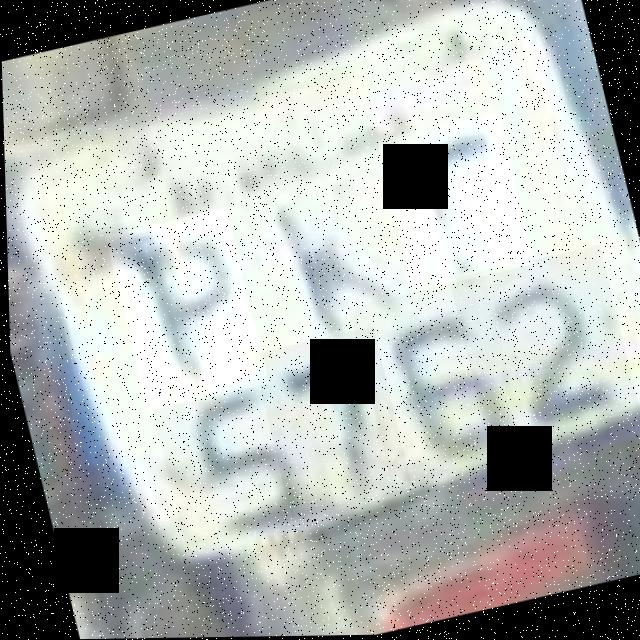2: (446, 246, 639, 449)
5: (147, 368, 333, 546)
6: (345, 277, 526, 492)
7: (249, 327, 410, 519)
P: (102, 208, 267, 412)
T: (375, 113, 533, 293)
